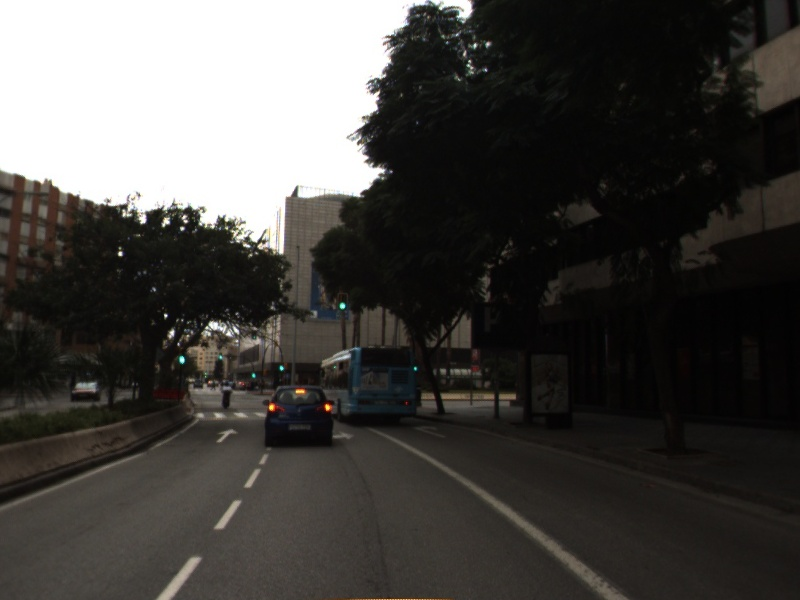RIGHT: (411, 423, 450, 440)
STRAIGHT: (214, 427, 241, 444)
